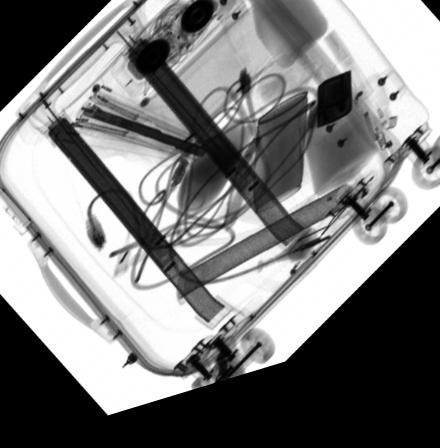Lighter: (315, 89, 352, 146)
